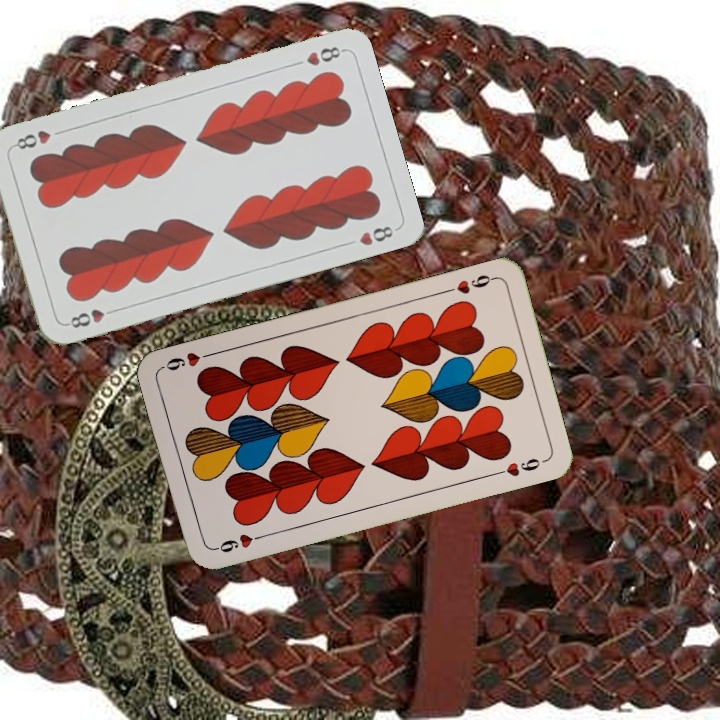H8: (62, 304, 120, 331), (302, 42, 346, 69)
H9: (440, 270, 498, 297), (209, 529, 267, 556)
